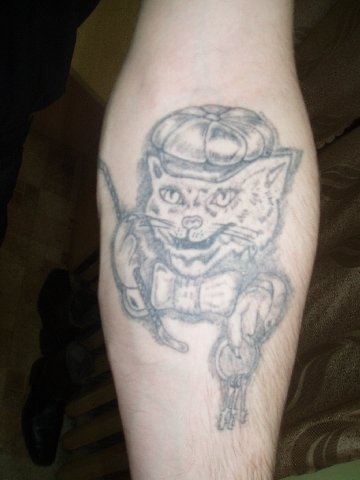tatu8_kot: (96, 100, 300, 435)
